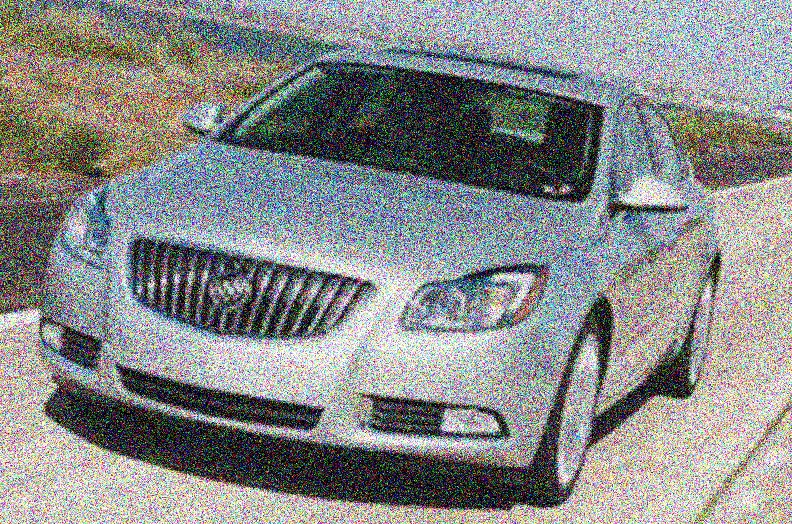car: (29, 29, 750, 506)
